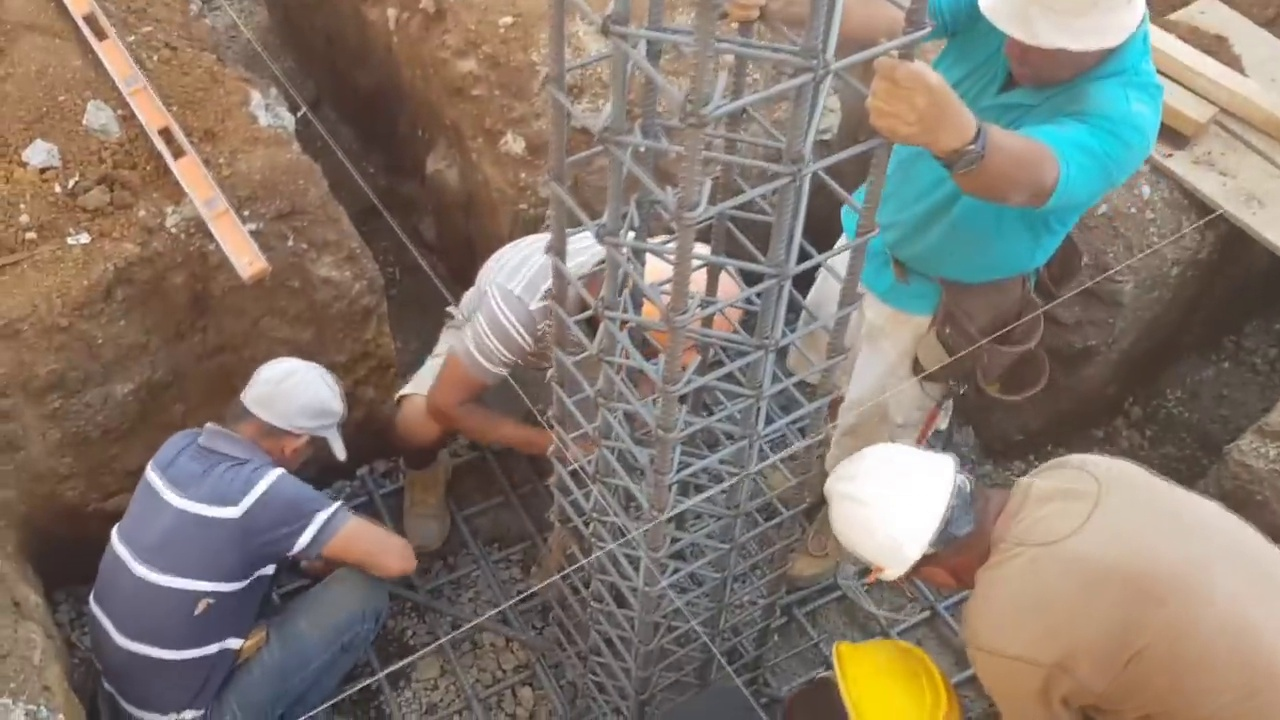helmet: (832, 440, 974, 603), (628, 232, 750, 365), (827, 642, 958, 716)
helmet-off: (975, 7, 1142, 100), (228, 360, 350, 483)
helmet-on: (827, 437, 1018, 605), (578, 220, 752, 372)
person: (808, 8, 1167, 517), (84, 336, 438, 712), (827, 437, 1280, 720), (392, 231, 752, 564)
